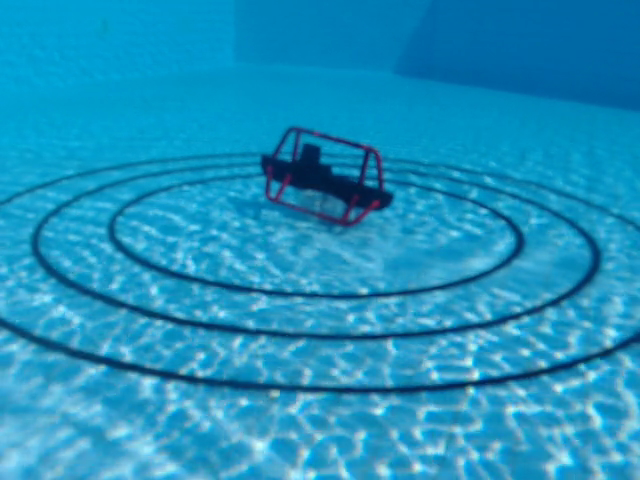submarine: (260, 126, 396, 229)
